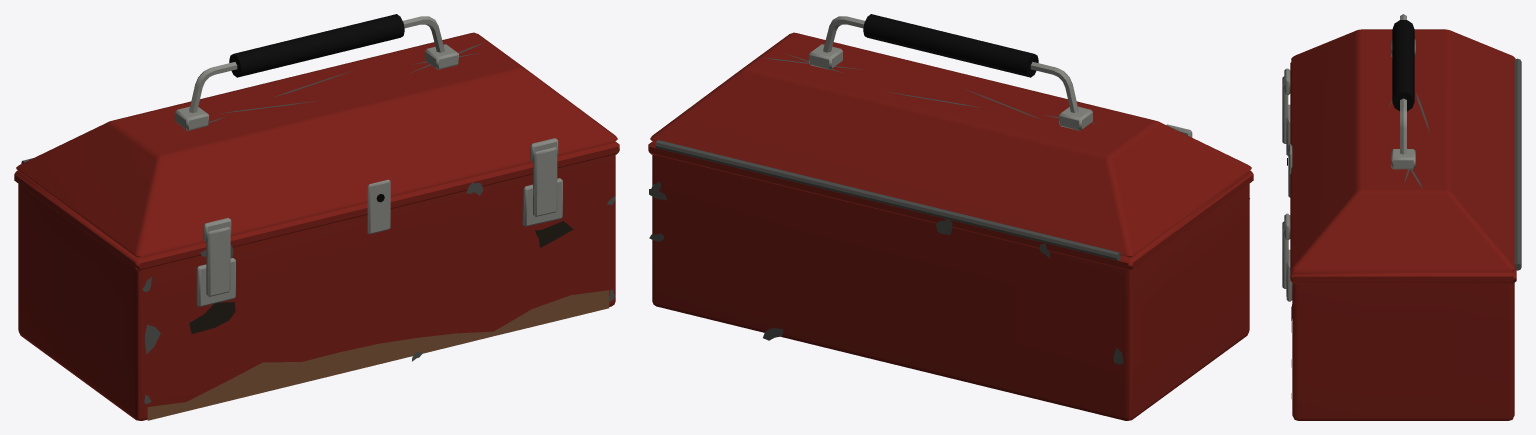
File: toolbox.glb
3 views of the same model, side by side, from view 1: azimuth 30°, elevation 25°; view 2: azimuth 150°, elevation 25°; view 3: azimuth 270°, elevation 25° (orthographic). The views are drawn at different scales.
Parts seen in each view (by area): view 1: werkzeugkasten0, werkzeugkasten1, werkzeugkasten6, werkzeugkasten2, werkzeugkasten3, werkzeugkasten5; view 2: werkzeugkasten0, werkzeugkasten5, werkzeugkasten2, werkzeugkasten1; view 3: werkzeugkasten0, werkzeugkasten1, werkzeugkasten2, werkzeugkasten5.
Part boxes in pixels (bbox=[...]): werkzeugkasten0: bbox=[14, 32, 619, 420]; werkzeugkasten1: bbox=[175, 16, 562, 307]; werkzeugkasten6: bbox=[147, 290, 609, 420]; werkzeugkasten2: bbox=[229, 14, 404, 77]; werkzeugkasten3: bbox=[189, 221, 573, 333]; werkzeugkasten5: bbox=[21, 42, 615, 404]; werkzeugkasten0: bbox=[648, 32, 1253, 420]; werkzeugkasten5: bbox=[649, 53, 1249, 364]; werkzeugkasten2: bbox=[863, 14, 1038, 77]; werkzeugkasten1: bbox=[809, 16, 1192, 137]; werkzeugkasten0: bbox=[1290, 29, 1516, 420]; werkzeugkasten1: bbox=[1282, 14, 1415, 301]; werkzeugkasten2: bbox=[1392, 20, 1414, 111]; werkzeugkasten5: bbox=[1388, 58, 1521, 270].
Bounding box in the file's own units: 0.504 × 0.2905 × 0.237.
